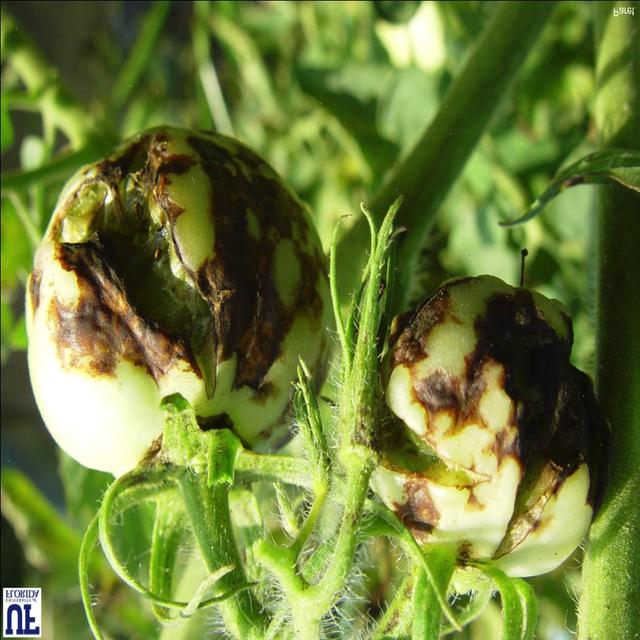Spotted wilt Virus Fruit: (120, 202, 326, 284)
